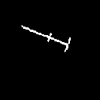double_crochet: (22, 26, 70, 50)
